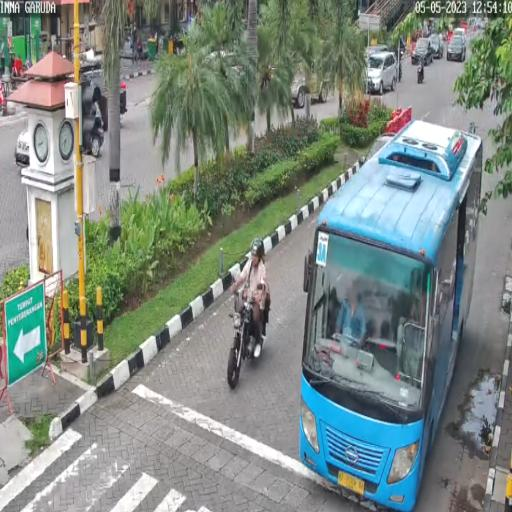mobil: (299, 113, 485, 512)
motor: (227, 283, 270, 394)
